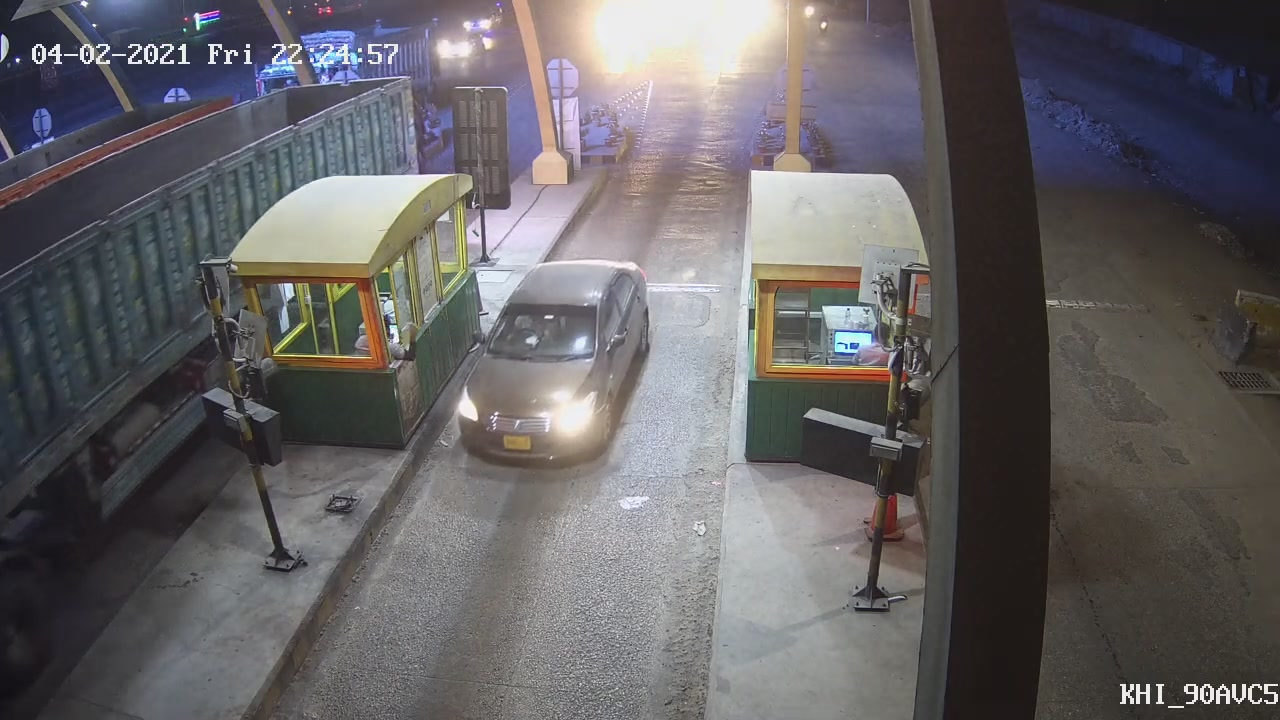F1: (453, 256, 655, 470)
